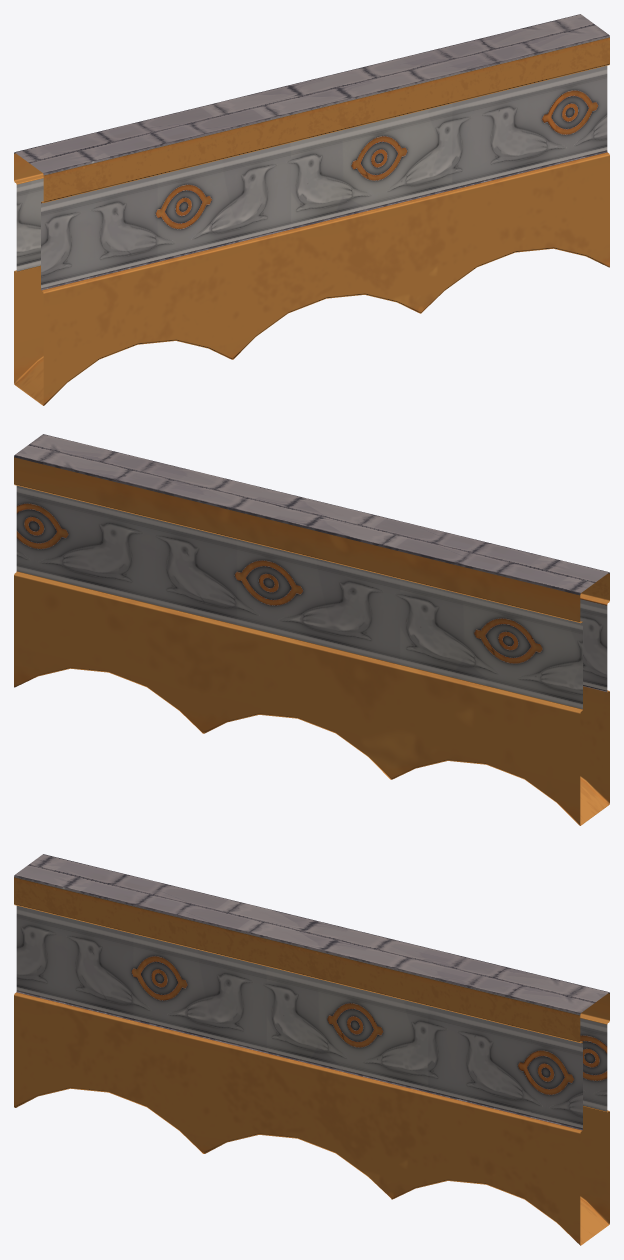
The model's file is SM_WallLow4m.fbx.
3 renders of one model, top to bottom at view 1: azimuth 30°, elevation 25°; view 2: azimuth 150°, elevation 25°; view 3: azimuth 330°, elevation 25°, orthographic.
Visible parts, largest first — view 1: SM_WallLow4m; view 2: SM_WallLow4m; view 3: SM_WallLow4m.
Boxes of the visible parts, x1=… form: SM_WallLow4m: x1=14, y1=14, x2=609, y2=405; SM_WallLow4m: x1=14, y1=434, x2=609, y2=825; SM_WallLow4m: x1=14, y1=854, x2=609, y2=1245.
Size of the model in its own units: 3.99 by 1.57 by 0.3642.
